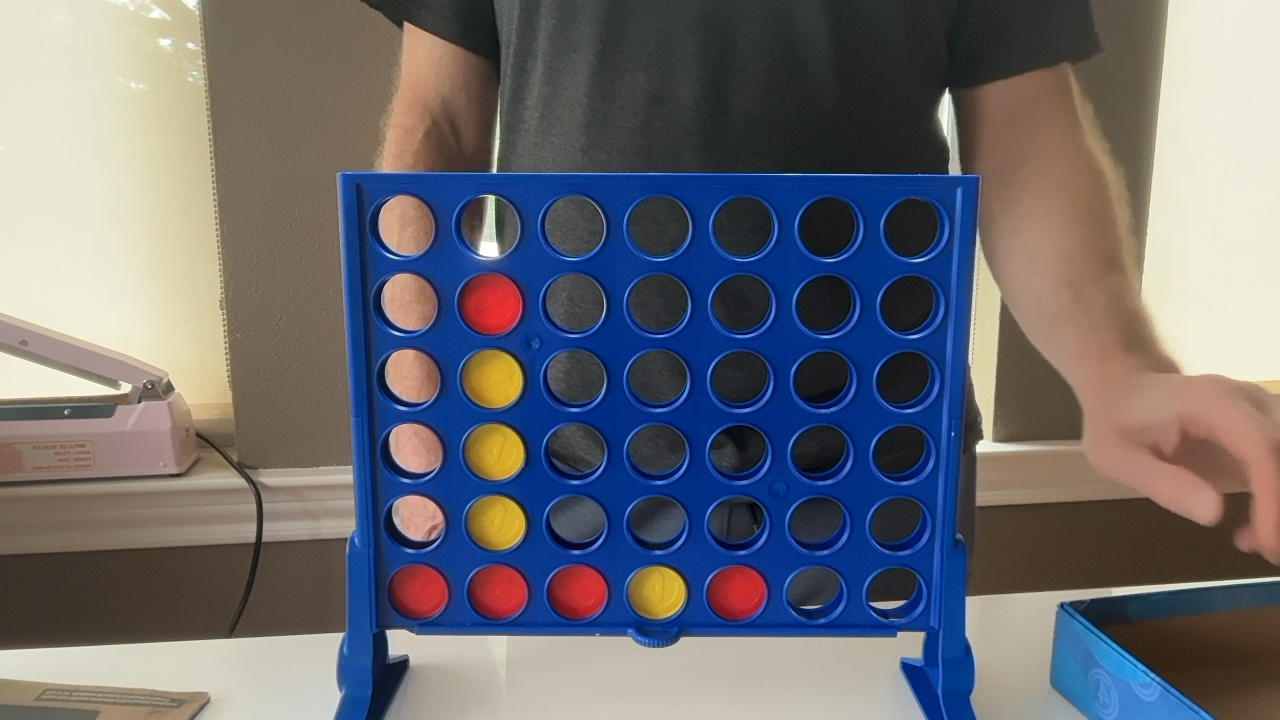red piece: (458, 273, 522, 334), (467, 564, 528, 620), (547, 564, 607, 620), (706, 565, 765, 621), (388, 564, 448, 619)
yellow piece: (461, 349, 523, 408), (463, 423, 525, 480), (465, 495, 526, 550), (627, 565, 686, 620)
